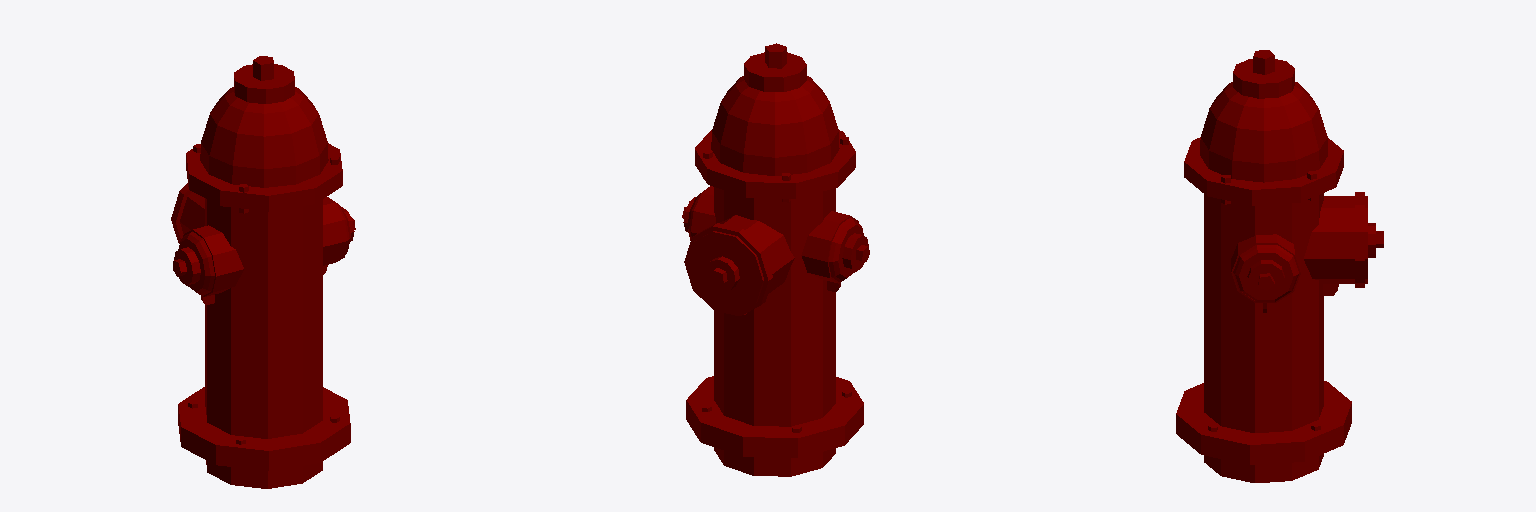
The model's file is Fire Hydrant.obj.
3 views of the same model, side by side, from view 1: azimuth 30°, elevation 25°; view 2: azimuth 150°, elevation 25°; view 3: azimuth 270°, elevation 25° (orthographic).
Visible parts, largest first — view 1: FireHydrant; view 2: FireHydrant; view 3: FireHydrant.
Part boxes in pixels (x1,y1,x2,y2): FireHydrant: (171, 56, 355, 488); FireHydrant: (682, 43, 869, 476); FireHydrant: (1176, 50, 1383, 482).
Bounding box in the file's own units: 107 × 233 × 109.